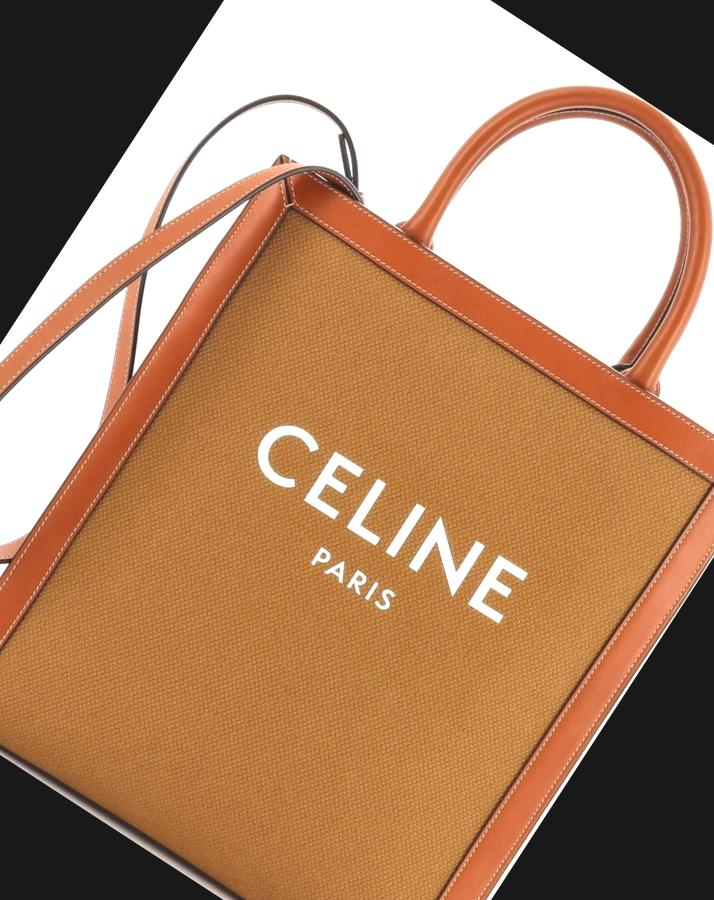CELINE: (242, 408, 532, 630)
